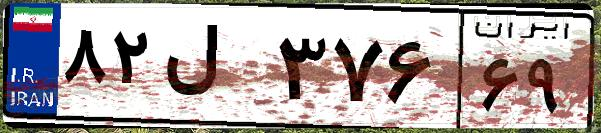2: (110, 28, 158, 98)
3: (270, 28, 330, 110)
6: (385, 28, 445, 110), (475, 38, 525, 113)
7: (330, 28, 385, 110)
8: (57, 26, 110, 100)
9: (525, 38, 570, 115)
ل: (158, 20, 270, 120)
